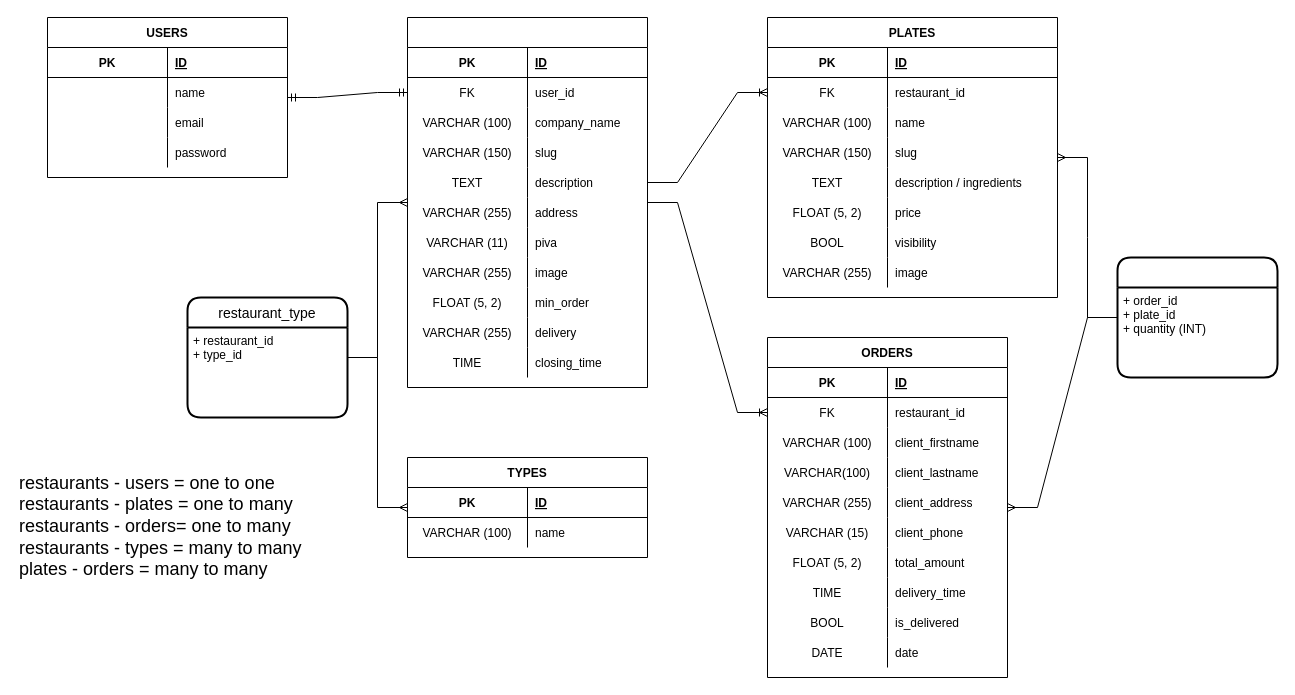
Some shapes in this 1295 by 695 pixel diagram are drawn without their labels. The box of each missing label's shape, as (x1, y1, x2, y2) in pixels:
order_plate: (1116, 256, 1278, 378)
RESTAURANTS: (406, 16, 648, 388)
